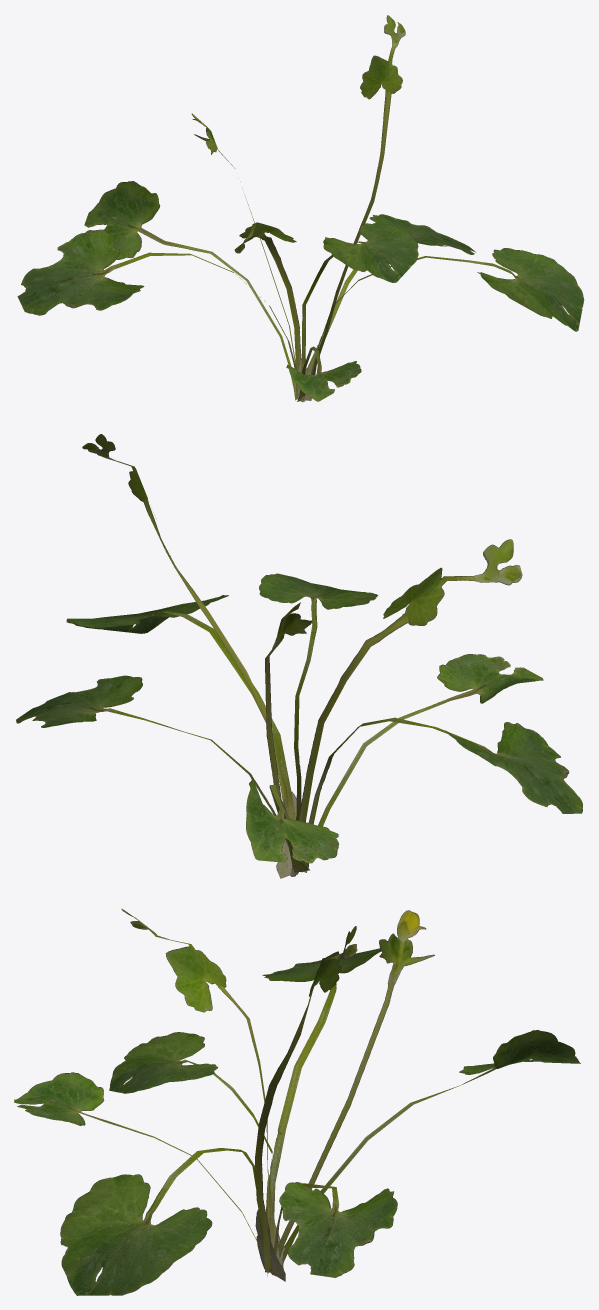
The model's file is celandine_01_a_LOD1.glb.
3 renders of one model, top to bottom at view 1: azimuth 30°, elevation 25°; view 2: azimuth 150°, elevation 25°; view 3: azimuth 270°, elevation 25°, orthographic. The views are drawn at different scales.
Parts seen in each view (by area): view 1: celandine_01_a_LOD1__lod0; view 2: celandine_01_a_LOD1__lod0; view 3: celandine_01_a_LOD1__lod0.
Boxes of the visible parts, x1,y1,x2,y2 form: celandine_01_a_LOD1__lod0: (17, 15, 584, 402); celandine_01_a_LOD1__lod0: (16, 434, 582, 878); celandine_01_a_LOD1__lod0: (14, 909, 580, 1295).
Size of what is drawn, in the model's own units: 0.273 by 0.185 by 0.2254.
1 material, 1 textured.
